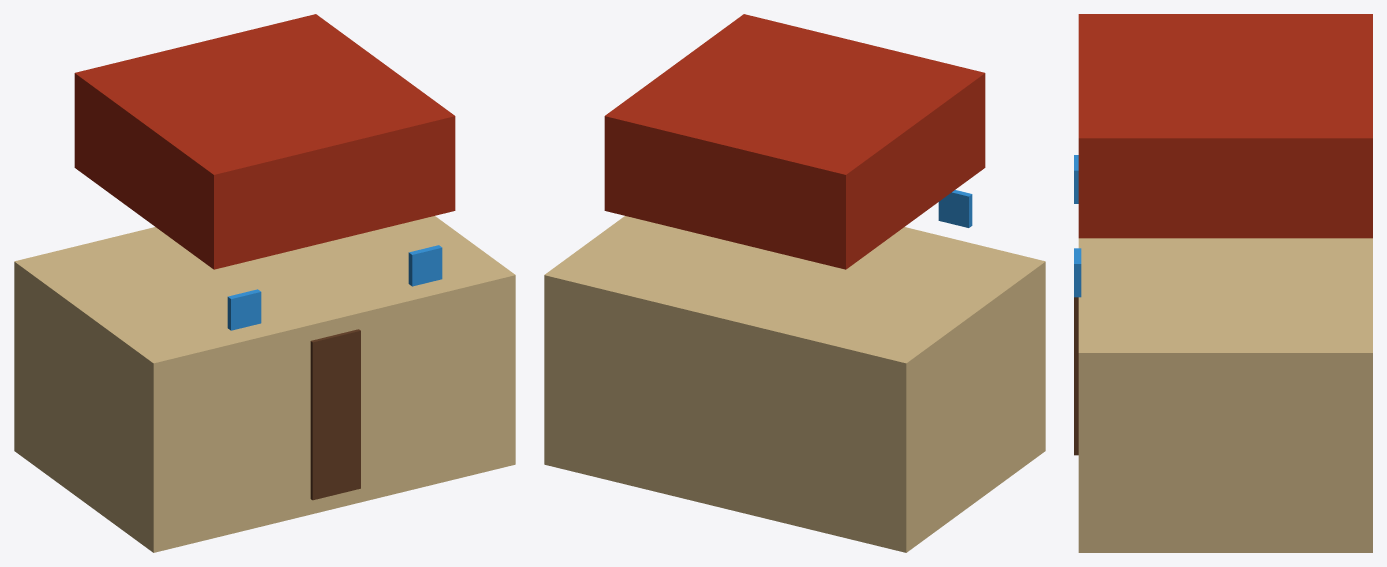
File: house3.obj
3 renders of one model, left to right at view 1: azimuth 30°, elevation 25°; view 2: azimuth 150°, elevation 25°; view 3: azimuth 270°, elevation 25°, orthographic. The views are drawn at different scales.
Bounding box in the file's own units: 6 × 5.75 × 4.06.
